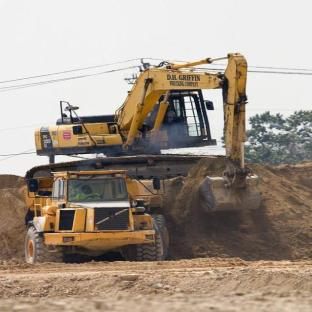ExcavationMachinery: (39, 49, 291, 206)
Vehicle: (22, 170, 168, 269)
